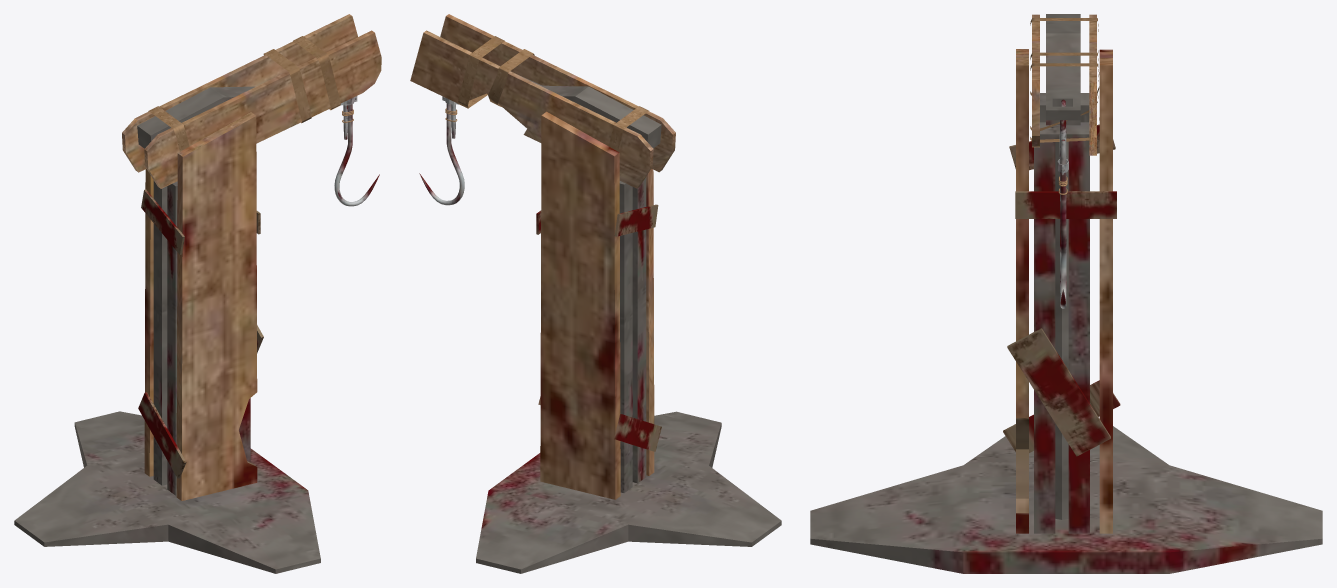
File: x_carnicero_sacrificial_hook.glb
3 views of the same model, side by side, from view 1: azimuth 30°, elevation 25°; view 2: azimuth 150°, elevation 25°; view 3: azimuth 270°, elevation 25° (orthographic). The views are drawn at different scales.
Visible parts, largest first — view 1: defaultMaterial; view 2: defaultMaterial; view 3: defaultMaterial.
Boxes of the visible parts, <box> form: defaultMaterial: <box>14,14,381,573</box>; defaultMaterial: <box>410,14,781,573</box>; defaultMaterial: <box>810,14,1322,573</box>.
Bounding box in the file's own units: 1.86 × 2.2 × 1.86.
7 materials, 7 textured.
